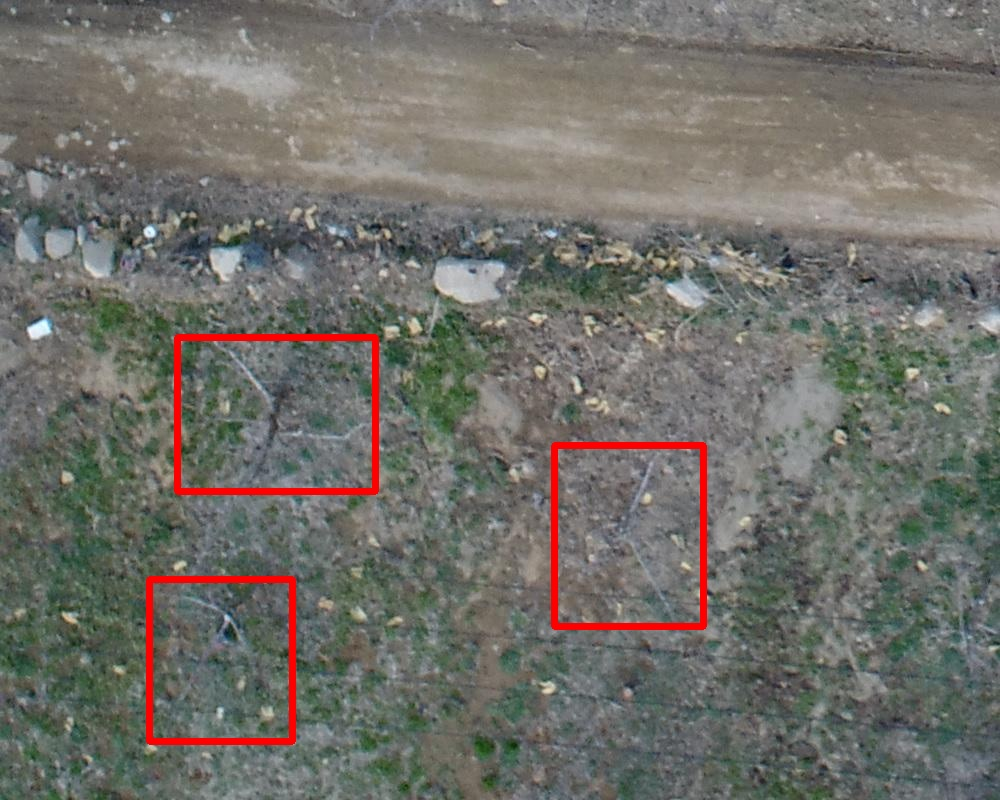apple: (177, 337, 375, 491), (554, 445, 703, 626), (149, 579, 292, 741)
